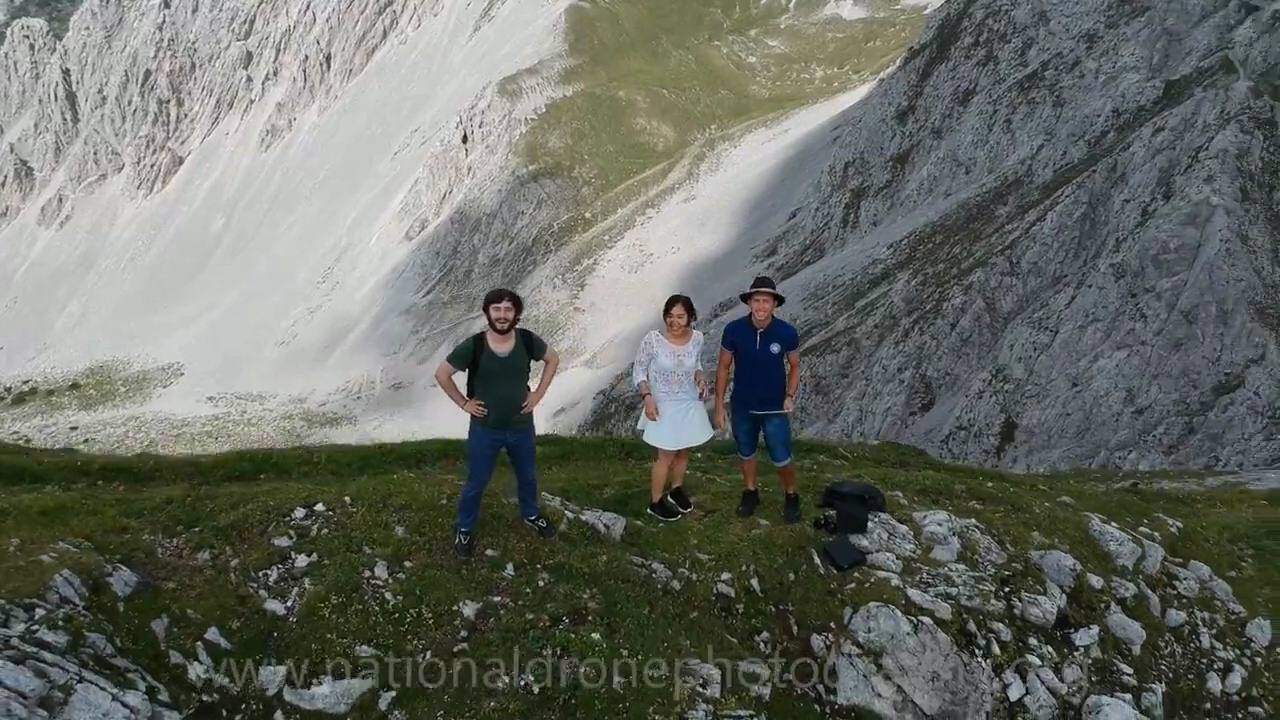insan: (435, 287, 561, 557), (709, 274, 806, 527), (631, 293, 711, 519)
